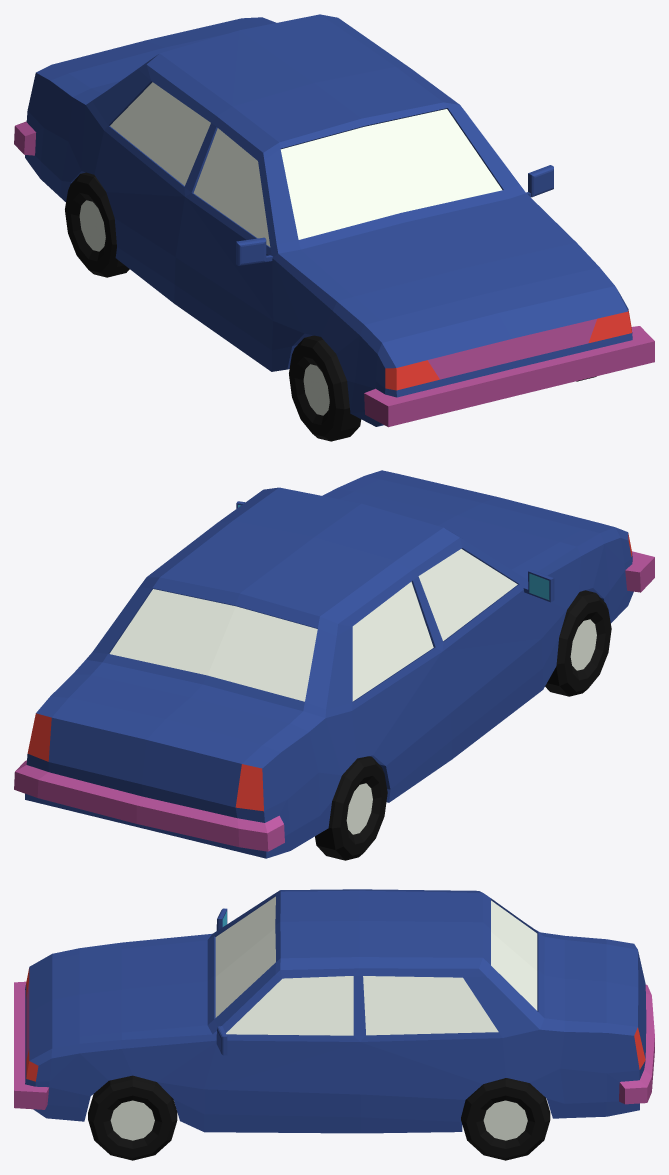
File: car6.glb
3 views of the same model, one above another, from view 1: azimuth 30°, elevation 25°; view 2: azimuth 150°, elevation 25°; view 3: azimuth 270°, elevation 25° (orthographic). The views are drawn at different scales.
Parts seen in each view (by area): view 1: body.003, tire1.004, tire2.002; view 2: body.003, tire2.002, tire1.004; view 3: body.003, tire1.004, tire2.002.
Boxes of the visible parts, x1=… form: body.003: x1=14, y1=14, x2=654, y2=427; tire1.004: x1=289, y1=335, x2=596, y2=441; tire2.002: x1=65, y1=172, x2=129, y2=277; body.003: x1=14, y1=470, x2=654, y2=858; tire2.002: x1=315, y1=756, x2=387, y2=860; tire1.004: x1=545, y1=590, x2=611, y2=696; body.003: x1=14, y1=889, x2=654, y2=1133; tire1.004: x1=88, y1=1075, x2=177, y2=1160; tire2.002: x1=461, y1=1078, x2=550, y2=1160.
Bounding box in the file's own units: 2.68 × 1.81 × 5.67.
